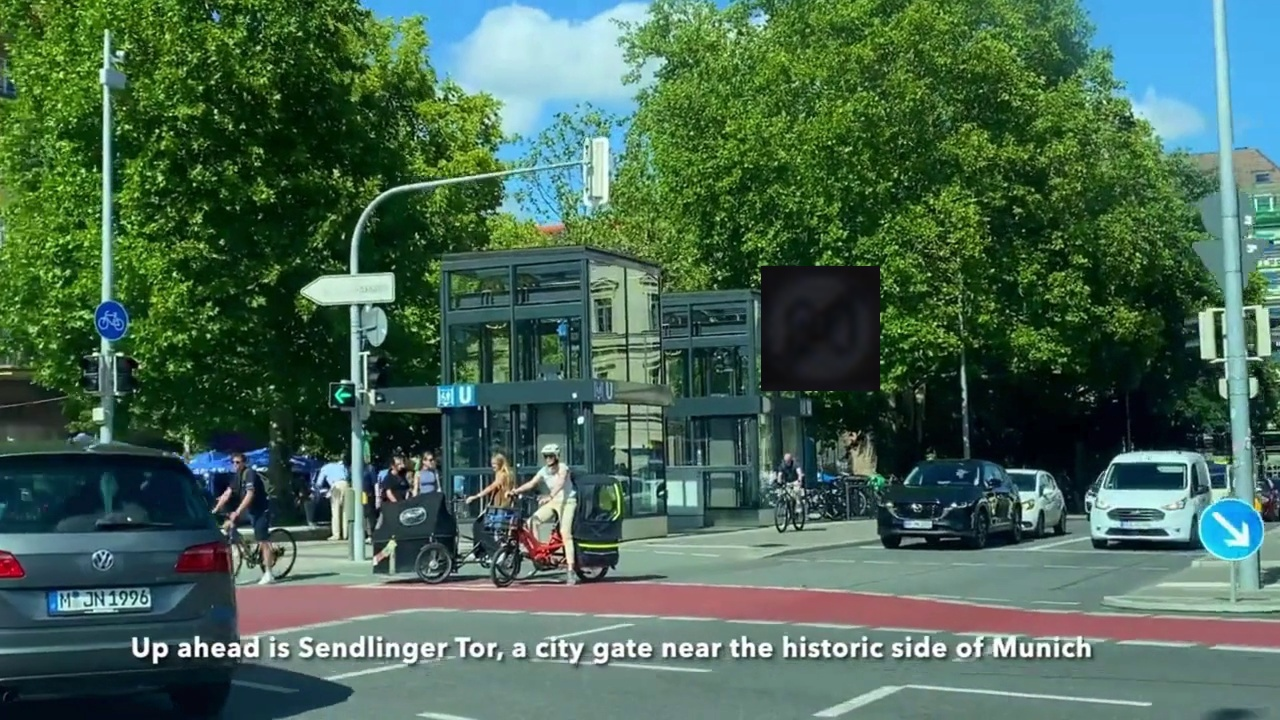End Speed 80: (761, 266, 880, 391)
